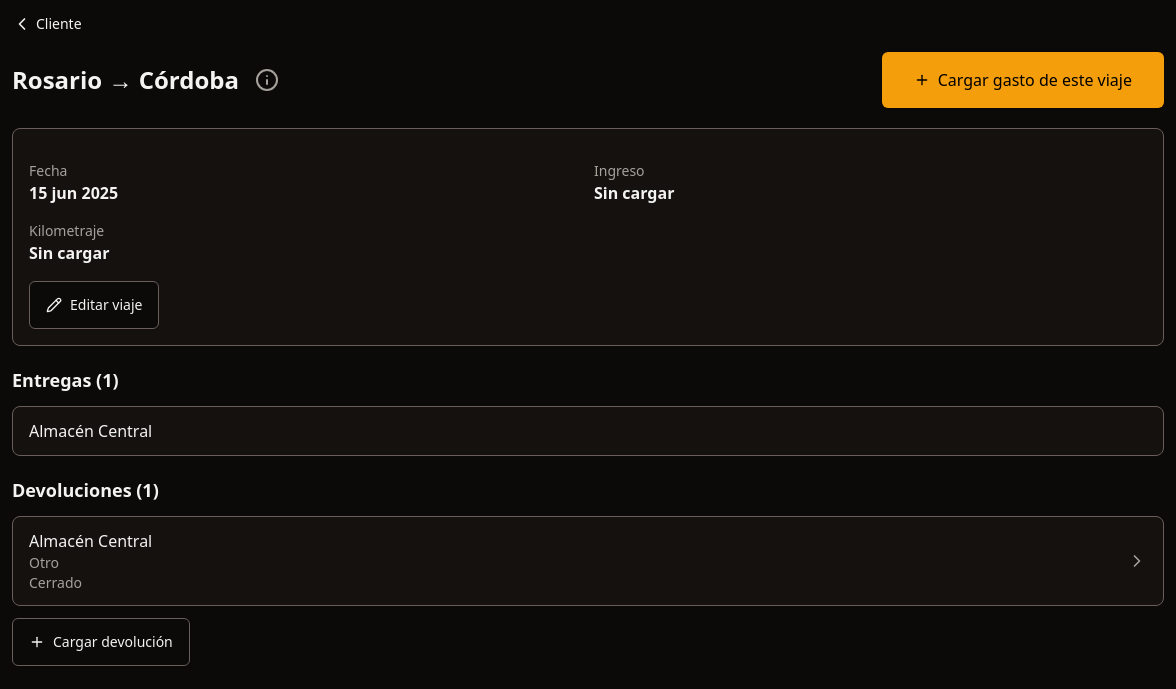
lo que se abre desde ese detalle devuelve el cliente al volver › cargar un gasto y volver sin guardar: el detalle sigue ofreciendo "Cliente"
Click the link "Cargar gasto de este viaje" at (1023, 80), box 882,52 -> 1164,108
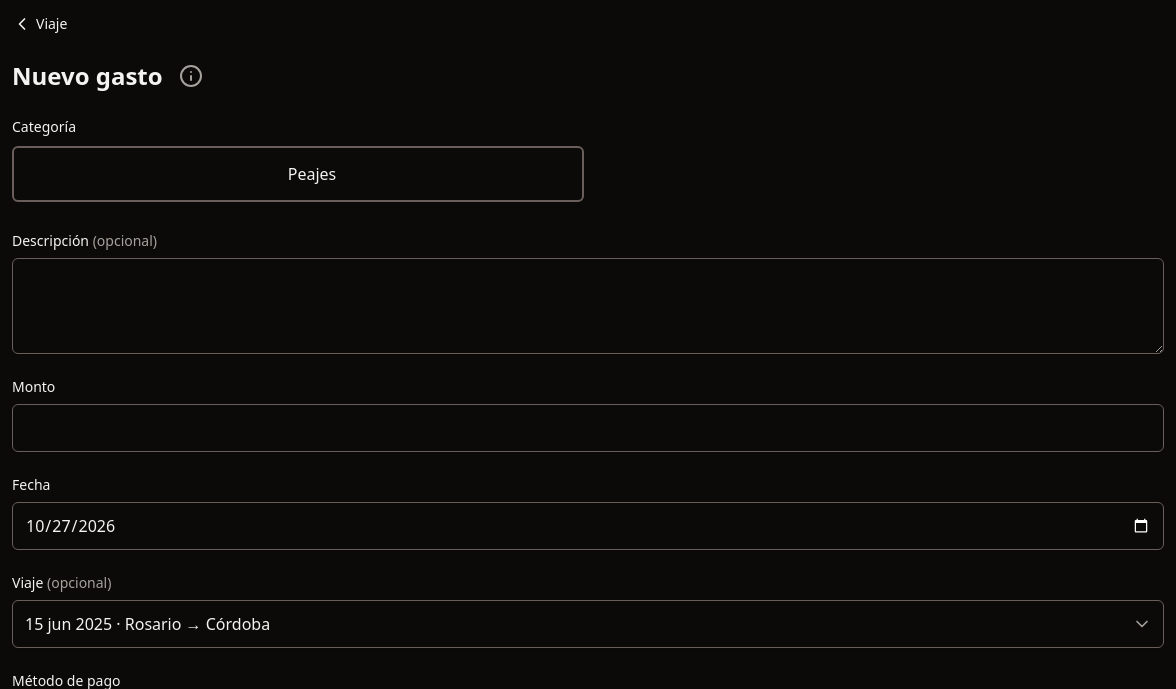
Result: the link with class "min-h-12" reads "Viaje"
Click the link with class "min-h-12" at (40, 24), box 12,14 -> 67,34
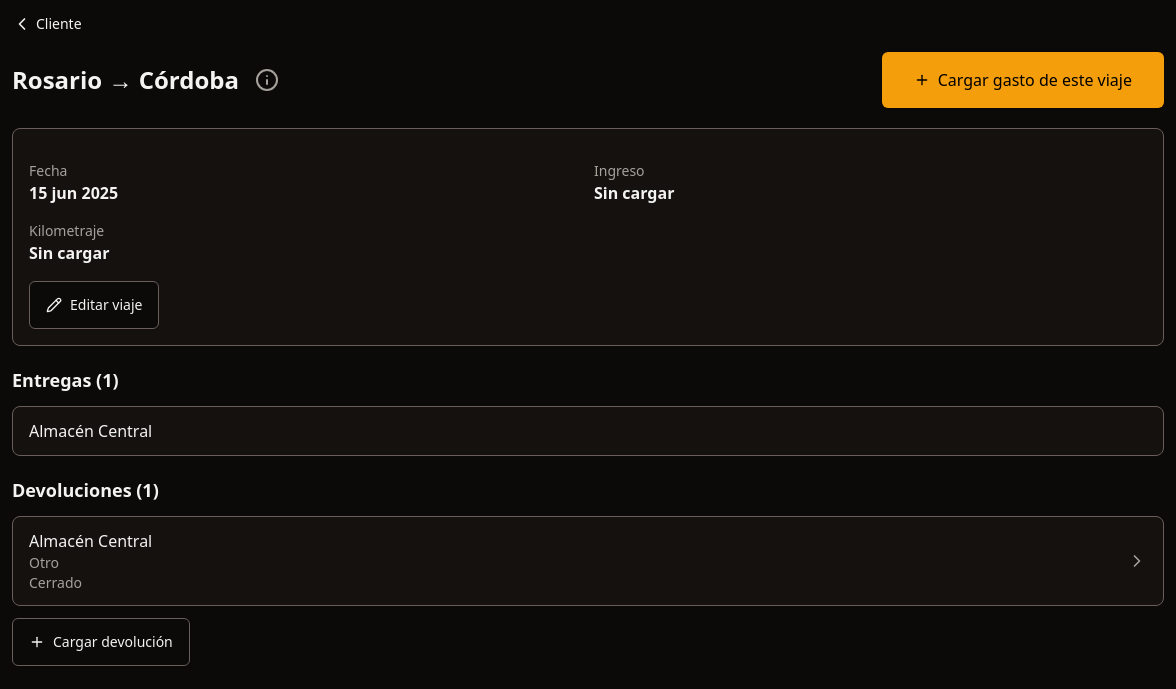
Result: the link with class "min-h-12" reads "Cliente" at 12,14 -> 82,34
